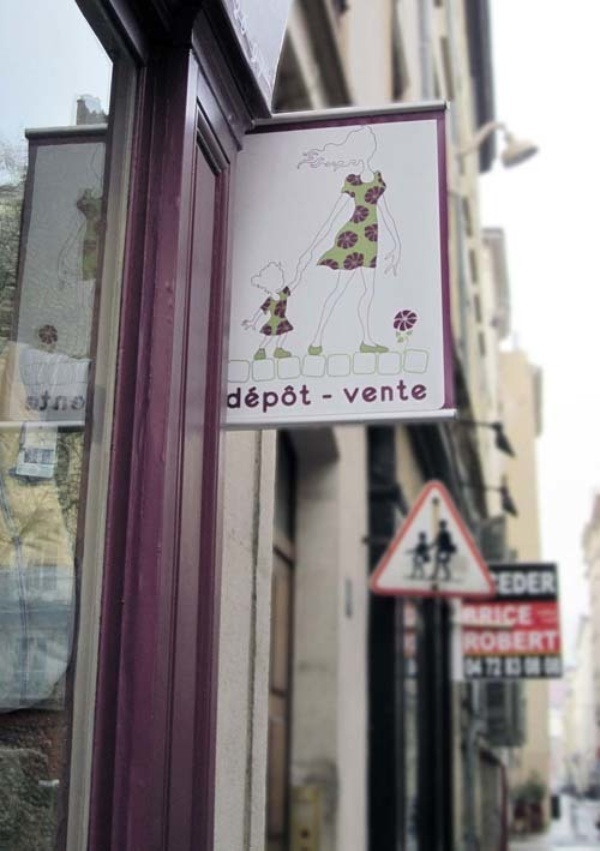text: (257, 4, 272, 101), (248, 4, 256, 101), (241, 383, 256, 415), (257, 383, 272, 415), (273, 383, 288, 415), (289, 383, 304, 415), (353, 377, 368, 406), (369, 377, 384, 406), (385, 377, 400, 406), (401, 377, 416, 406), (513, 569, 528, 595), (529, 569, 544, 595), (545, 569, 560, 595), (465, 629, 480, 655), (481, 629, 496, 655), (497, 629, 512, 655), (513, 629, 528, 655), (529, 629, 544, 655), (545, 629, 560, 655), (273, 4, 277, 101), (33, 392, 48, 416), (49, 392, 64, 416), (65, 392, 80, 416), (229, 383, 240, 415), (305, 383, 316, 415), (465, 605, 480, 628), (481, 605, 496, 628), (497, 605, 512, 628), (513, 605, 528, 628), (545, 658, 561, 679), (417, 377, 428, 406), (465, 659, 480, 680), (529, 658, 544, 679), (342, 377, 352, 406), (501, 569, 512, 595), (483, 658, 496, 680), (513, 656, 523, 679), (23, 392, 32, 416), (503, 656, 512, 679), (322, 391, 336, 405), (81, 392, 87, 416), (458, 605, 464, 628), (497, 658, 503, 680), (481, 659, 485, 680), (524, 658, 528, 679), (461, 629, 464, 655), (529, 605, 532, 628), (561, 629, 562, 655)
